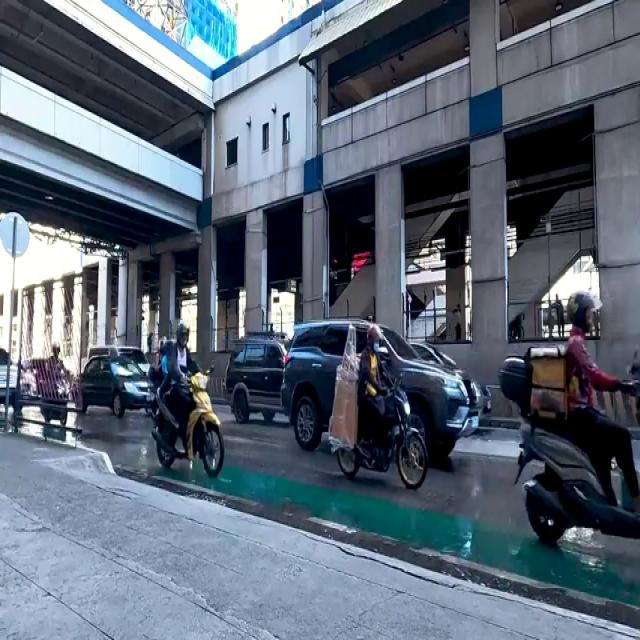car: (279, 317, 477, 465), (232, 336, 286, 407), (87, 362, 149, 412)
motorcycle: (530, 318, 638, 543), (334, 321, 422, 496), (148, 332, 230, 476), (39, 346, 80, 436)
